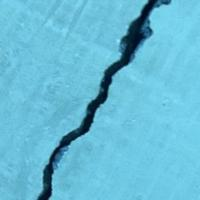crack: (35, 0, 180, 199)
